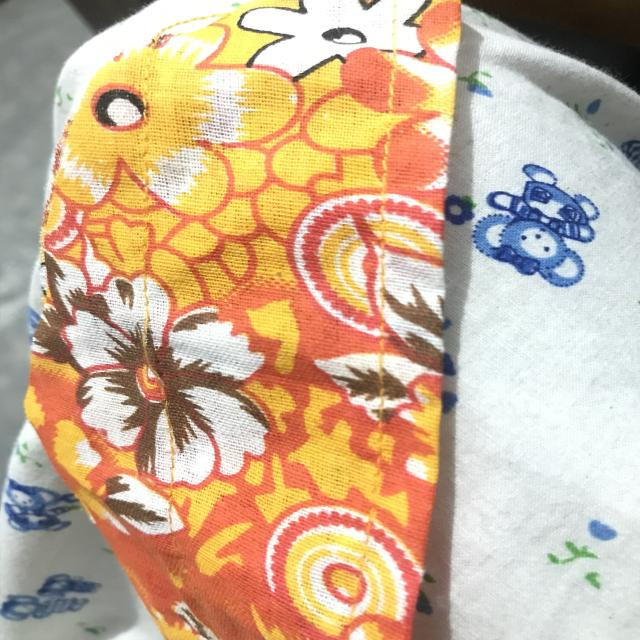good: (375, 130, 397, 210)
skip: (125, 302, 174, 395)
